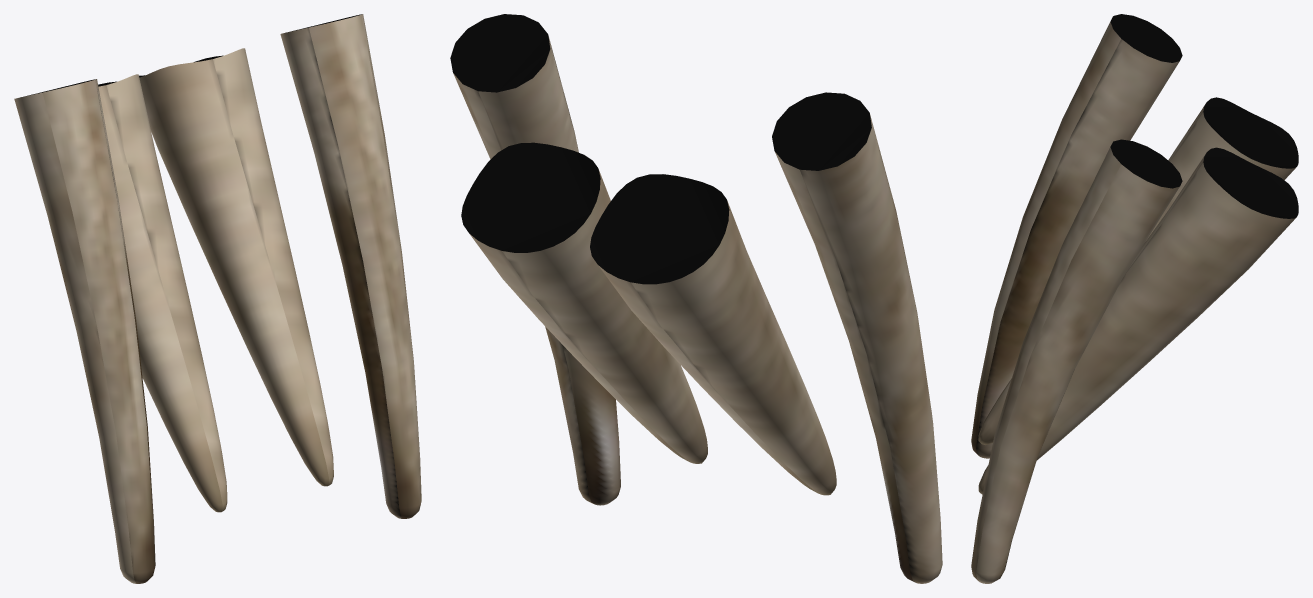
File: 01_Gomphotherium_tusk.fbx
The picture shows the model from 3 angles, left to right: view 1: azimuth 30°, elevation 25°; view 2: azimuth 150°, elevation 25°; view 3: azimuth 270°, elevation 25°; orthographic projection. The views are drawn at different scales.
Visible parts, largest first — view 1: Cylinder, Cube.002; view 2: Cube.002, Cylinder; view 3: Cylinder, Cube.002.
Part boxes in pixels (box(x1,y1,x2,y2)): Cylinder: box(14, 14, 421, 583); Cube.002: box(98, 48, 333, 512); Cube.002: box(461, 142, 836, 495); Cylinder: box(450, 14, 942, 583); Cylinder: box(971, 14, 1182, 583); Cube.002: box(978, 97, 1298, 494).
Bounding box in the file's own units: 151 × 192 × 131.
